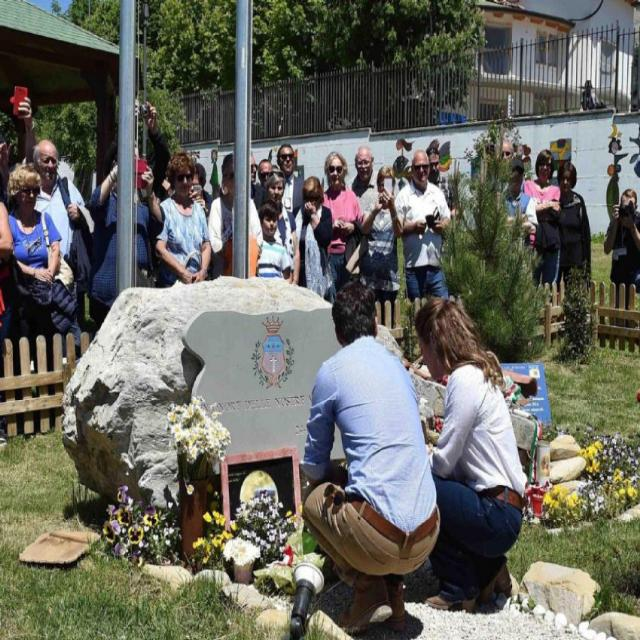body: (300, 280, 442, 635), (414, 294, 532, 612), (6, 160, 84, 398), (84, 132, 168, 340), (31, 136, 93, 357), (0, 92, 38, 446), (132, 100, 213, 223), (393, 146, 452, 298), (358, 163, 406, 330), (155, 148, 213, 286), (207, 151, 264, 282), (321, 150, 363, 304), (290, 174, 334, 298), (522, 148, 561, 284), (555, 159, 592, 296), (262, 167, 302, 285), (602, 186, 640, 310), (230, 144, 282, 208), (254, 202, 294, 285), (502, 155, 539, 240), (346, 144, 380, 216), (426, 144, 458, 218), (276, 142, 308, 215), (576, 76, 612, 116), (498, 137, 514, 165)
